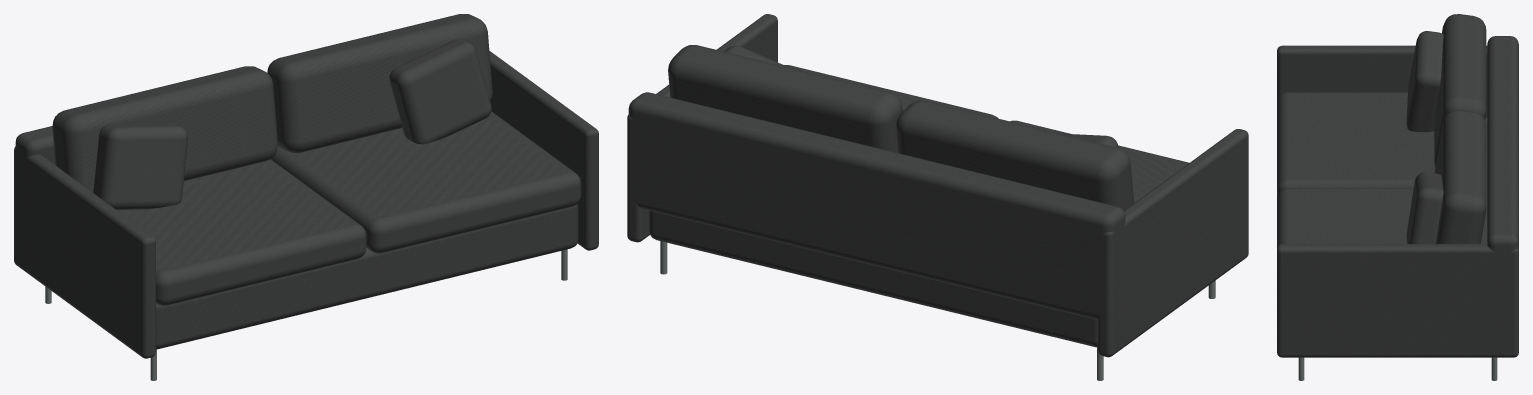
The model's file is soderhamn.glb.
3 renders of one model, left to right at view 1: azimuth 30°, elevation 25°; view 2: azimuth 150°, elevation 25°; view 3: azimuth 270°, elevation 25°, orthographic. The views are drawn at different scales.
Visible parts, largest first — view 1: SÖDERHAMN 3-seat sofa; view 2: SÖDERHAMN 3-seat sofa; view 3: SÖDERHAMN 3-seat sofa.
Boxes of the visible parts, <box> form: SÖDERHAMN 3-seat sofa: <box>14,14,598,380</box>; SÖDERHAMN 3-seat sofa: <box>627,14,1248,380</box>; SÖDERHAMN 3-seat sofa: <box>1277,14,1518,380</box>.
Size of the model in its own units: 1.98 by 0.83 by 0.99.
Materials: 2 (1 with a texture image).
